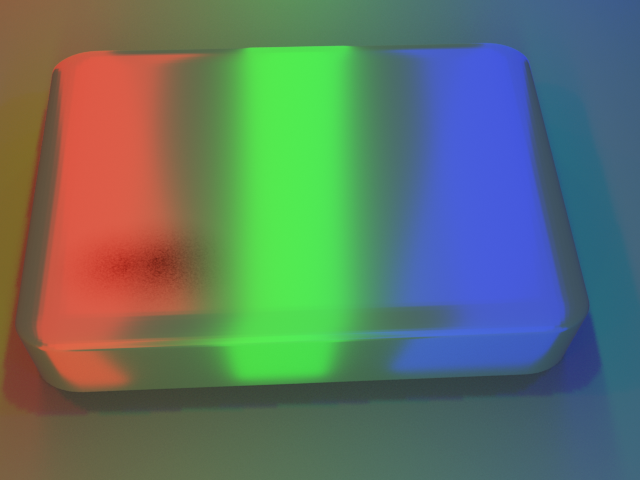stain: (11, 196, 255, 341)
